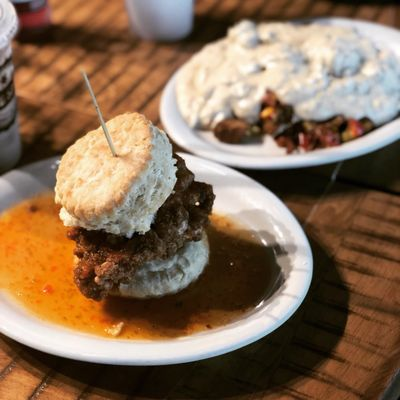soup: (53, 111, 214, 300)
sushi: (160, 17, 400, 171)
